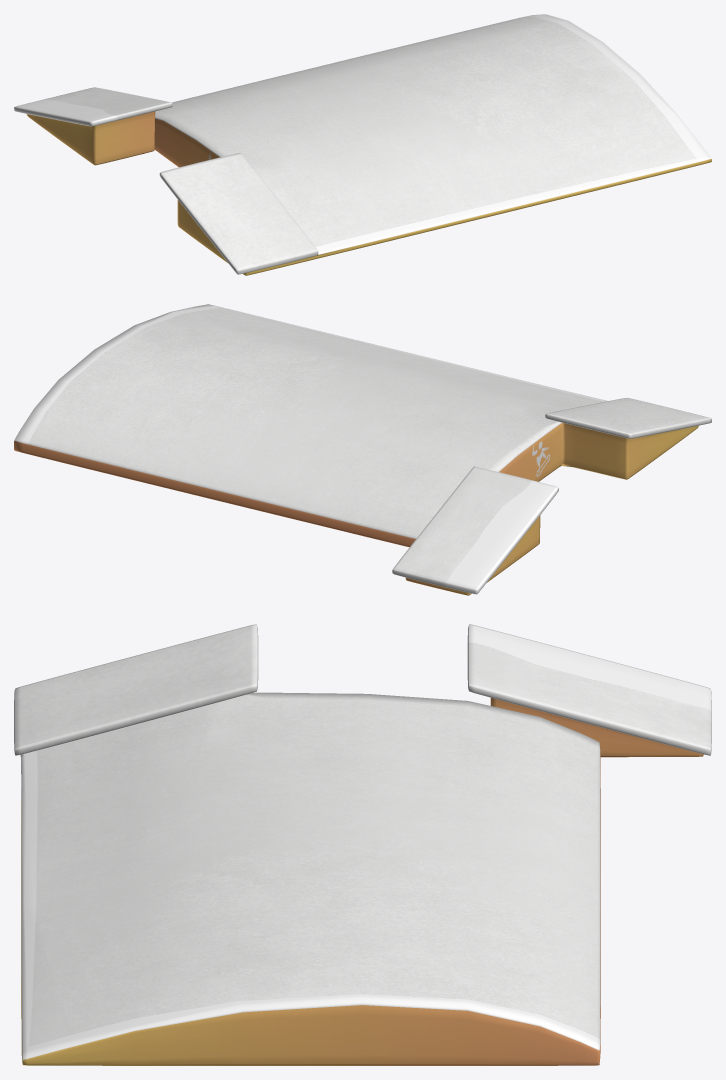
Rendered from Module_Back_360.glb.
3 renders of one model, top to bottom at view 1: azimuth 30°, elevation 25°; view 2: azimuth 150°, elevation 25°; view 3: azimuth 270°, elevation 25°, orthographic. The views are drawn at different scales.
Parts seen in each view (by area): view 1: Module_Back_360; view 2: Module_Back_360; view 3: Module_Back_360.
Boxes of the visible parts, <box> form: Module_Back_360: <box>14,14,711,275</box>; Module_Back_360: <box>14,304,711,595</box>; Module_Back_360: <box>14,624,711,1065</box>.
Size of the model in its own units: 8.78 by 0.9174 by 7.13.
1 material, 1 textured.
